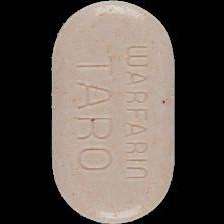16590-341: (0, 0, 224, 224)
